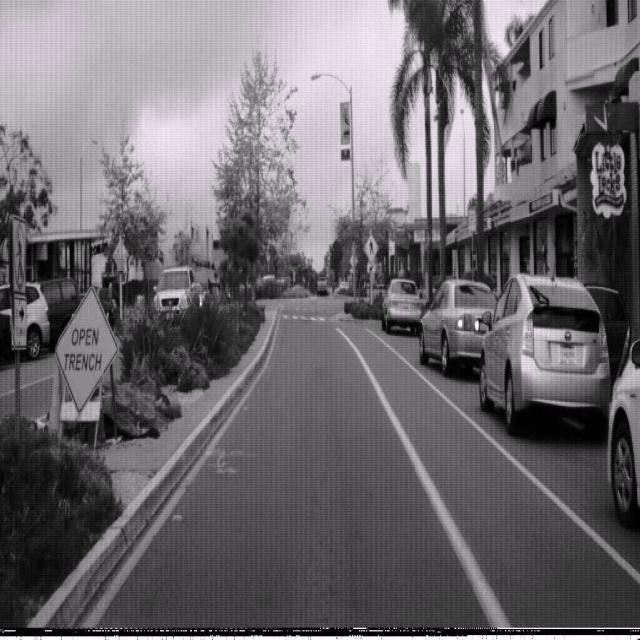pedestrianCrossing: (363, 232, 379, 261)
